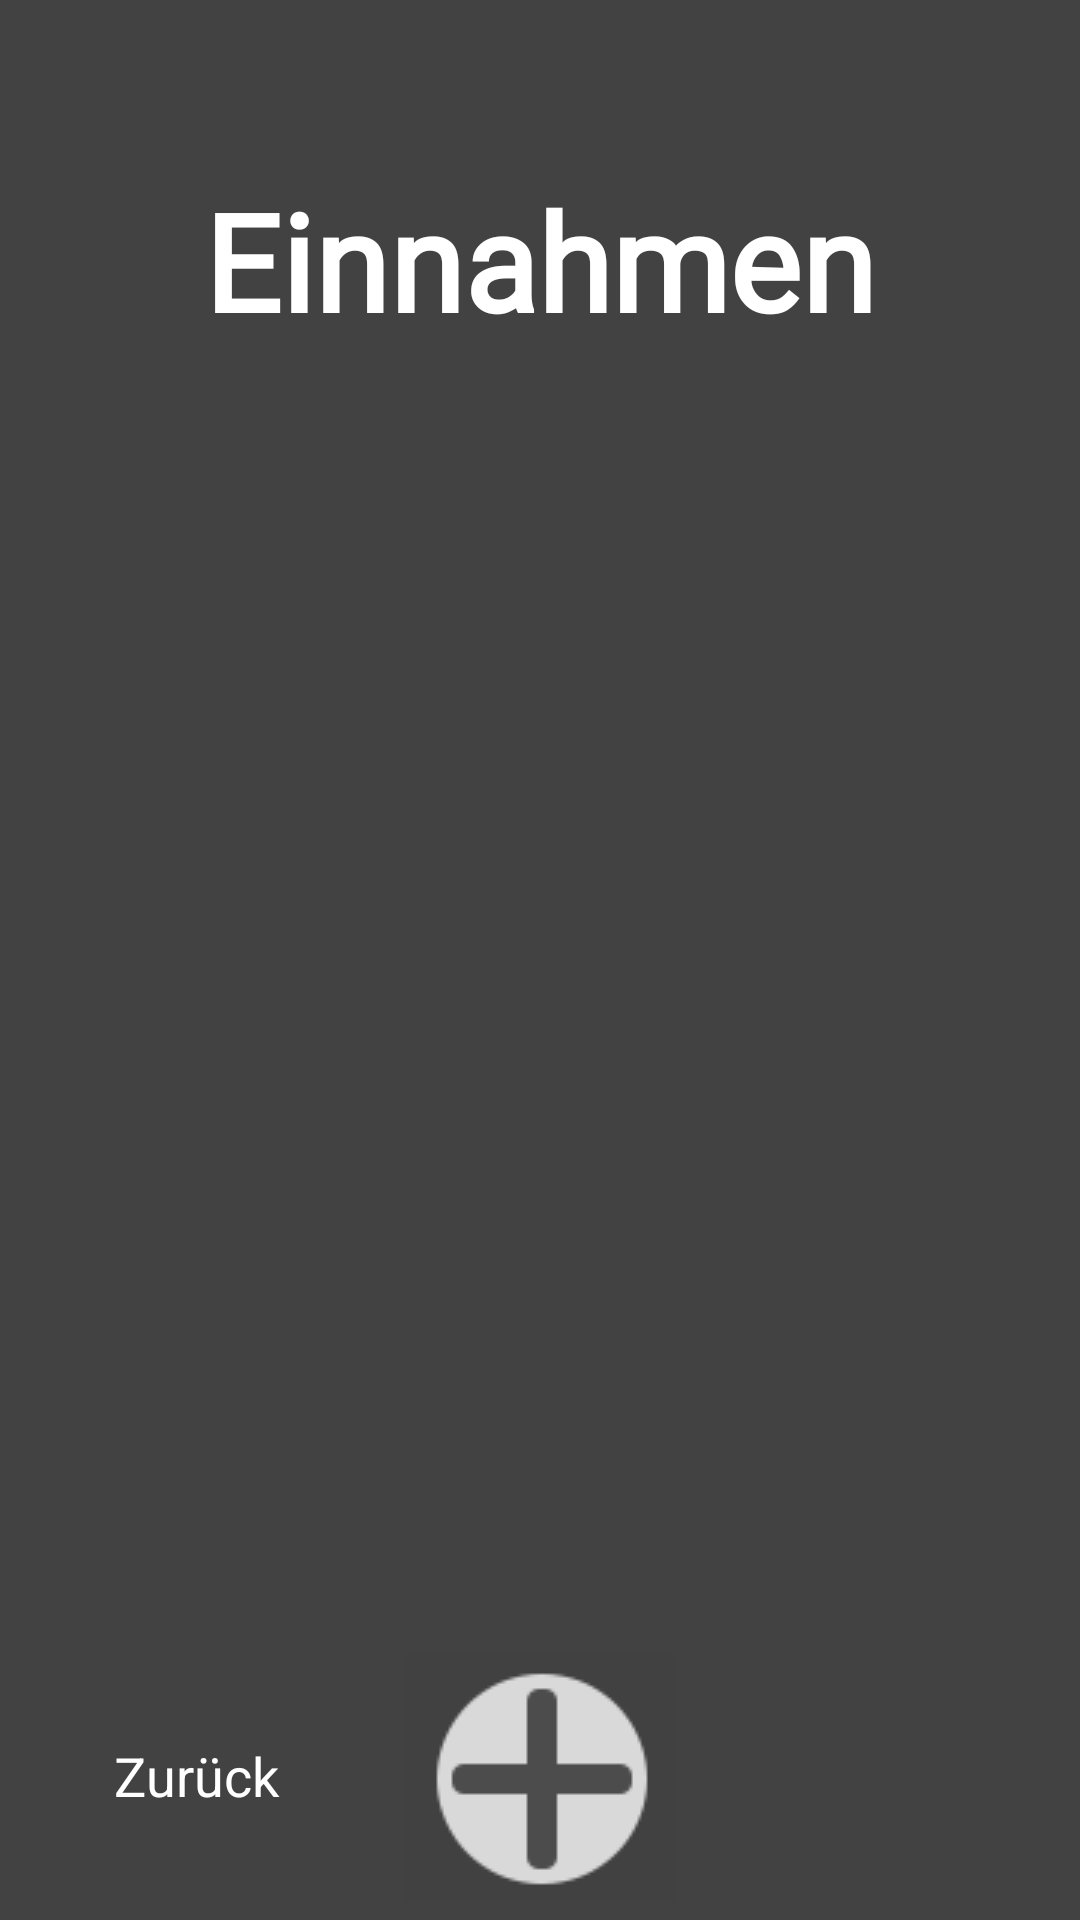

Screen size 1080x1920. Icon name, then its center in pixels as (x,y):
plus: (542,1779)
